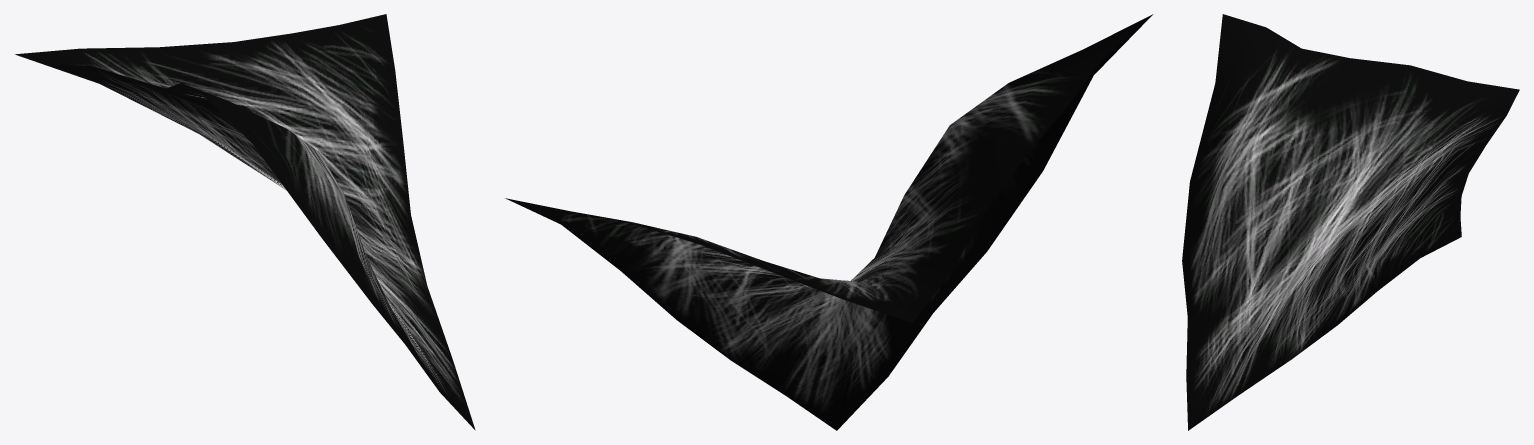
The model's file is SWORDLIGHT20_PS-AREA01_CORNERWEB04.fbx.
3 renders of one model, left to right at view 1: azimuth 30°, elevation 25°; view 2: azimuth 150°, elevation 25°; view 3: azimuth 270°, elevation 25°, orthographic. The views are drawn at different scales.
Parts seen in each view (by area): view 1: SWORDLIGHT20_PS-AREA01_CORNERWEB04; view 2: SWORDLIGHT20_PS-AREA01_CORNERWEB04; view 3: SWORDLIGHT20_PS-AREA01_CORNERWEB04.
Part boxes in pixels (box(x1,y1,x2,y2)): SWORDLIGHT20_PS-AREA01_CORNERWEB04: box(15, 14, 475, 430); SWORDLIGHT20_PS-AREA01_CORNERWEB04: box(505, 14, 1153, 430); SWORDLIGHT20_PS-AREA01_CORNERWEB04: box(1182, 14, 1519, 430).
Bounding box in the file's own units: 72862 × 79717 × 77432.
1 material, 1 textured.
